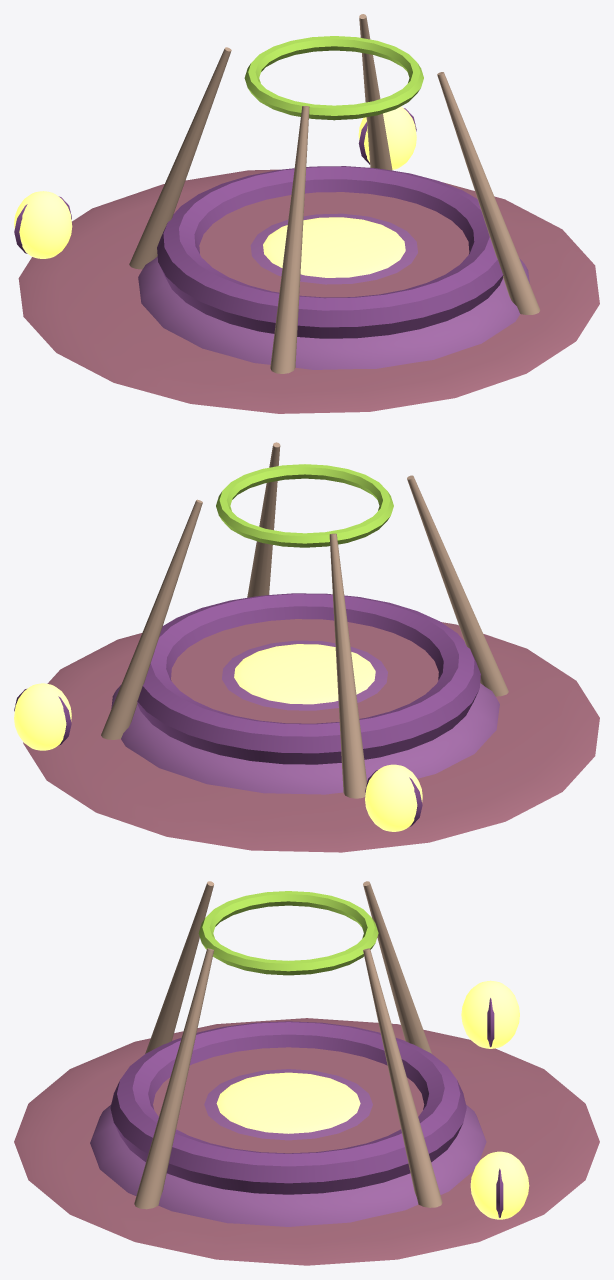
File: starport_ins.glb
The picture shows the model from 3 angles, top to bottom: view 1: azimuth 30°, elevation 25°; view 2: azimuth 150°, elevation 25°; view 3: azimuth 270°, elevation 25°; orthographic projection.
Parts seen in each view (by area): view 1: starport_ins; view 2: starport_ins; view 3: starport_ins.
Boxes of the visible parts, x1,y1,x2,y2 form: starport_ins: (14, 14, 599, 413); starport_ins: (14, 442, 599, 852); starport_ins: (14, 881, 599, 1265).
Bounding box in the file's own units: 3.19 × 1.71 × 3.19.
